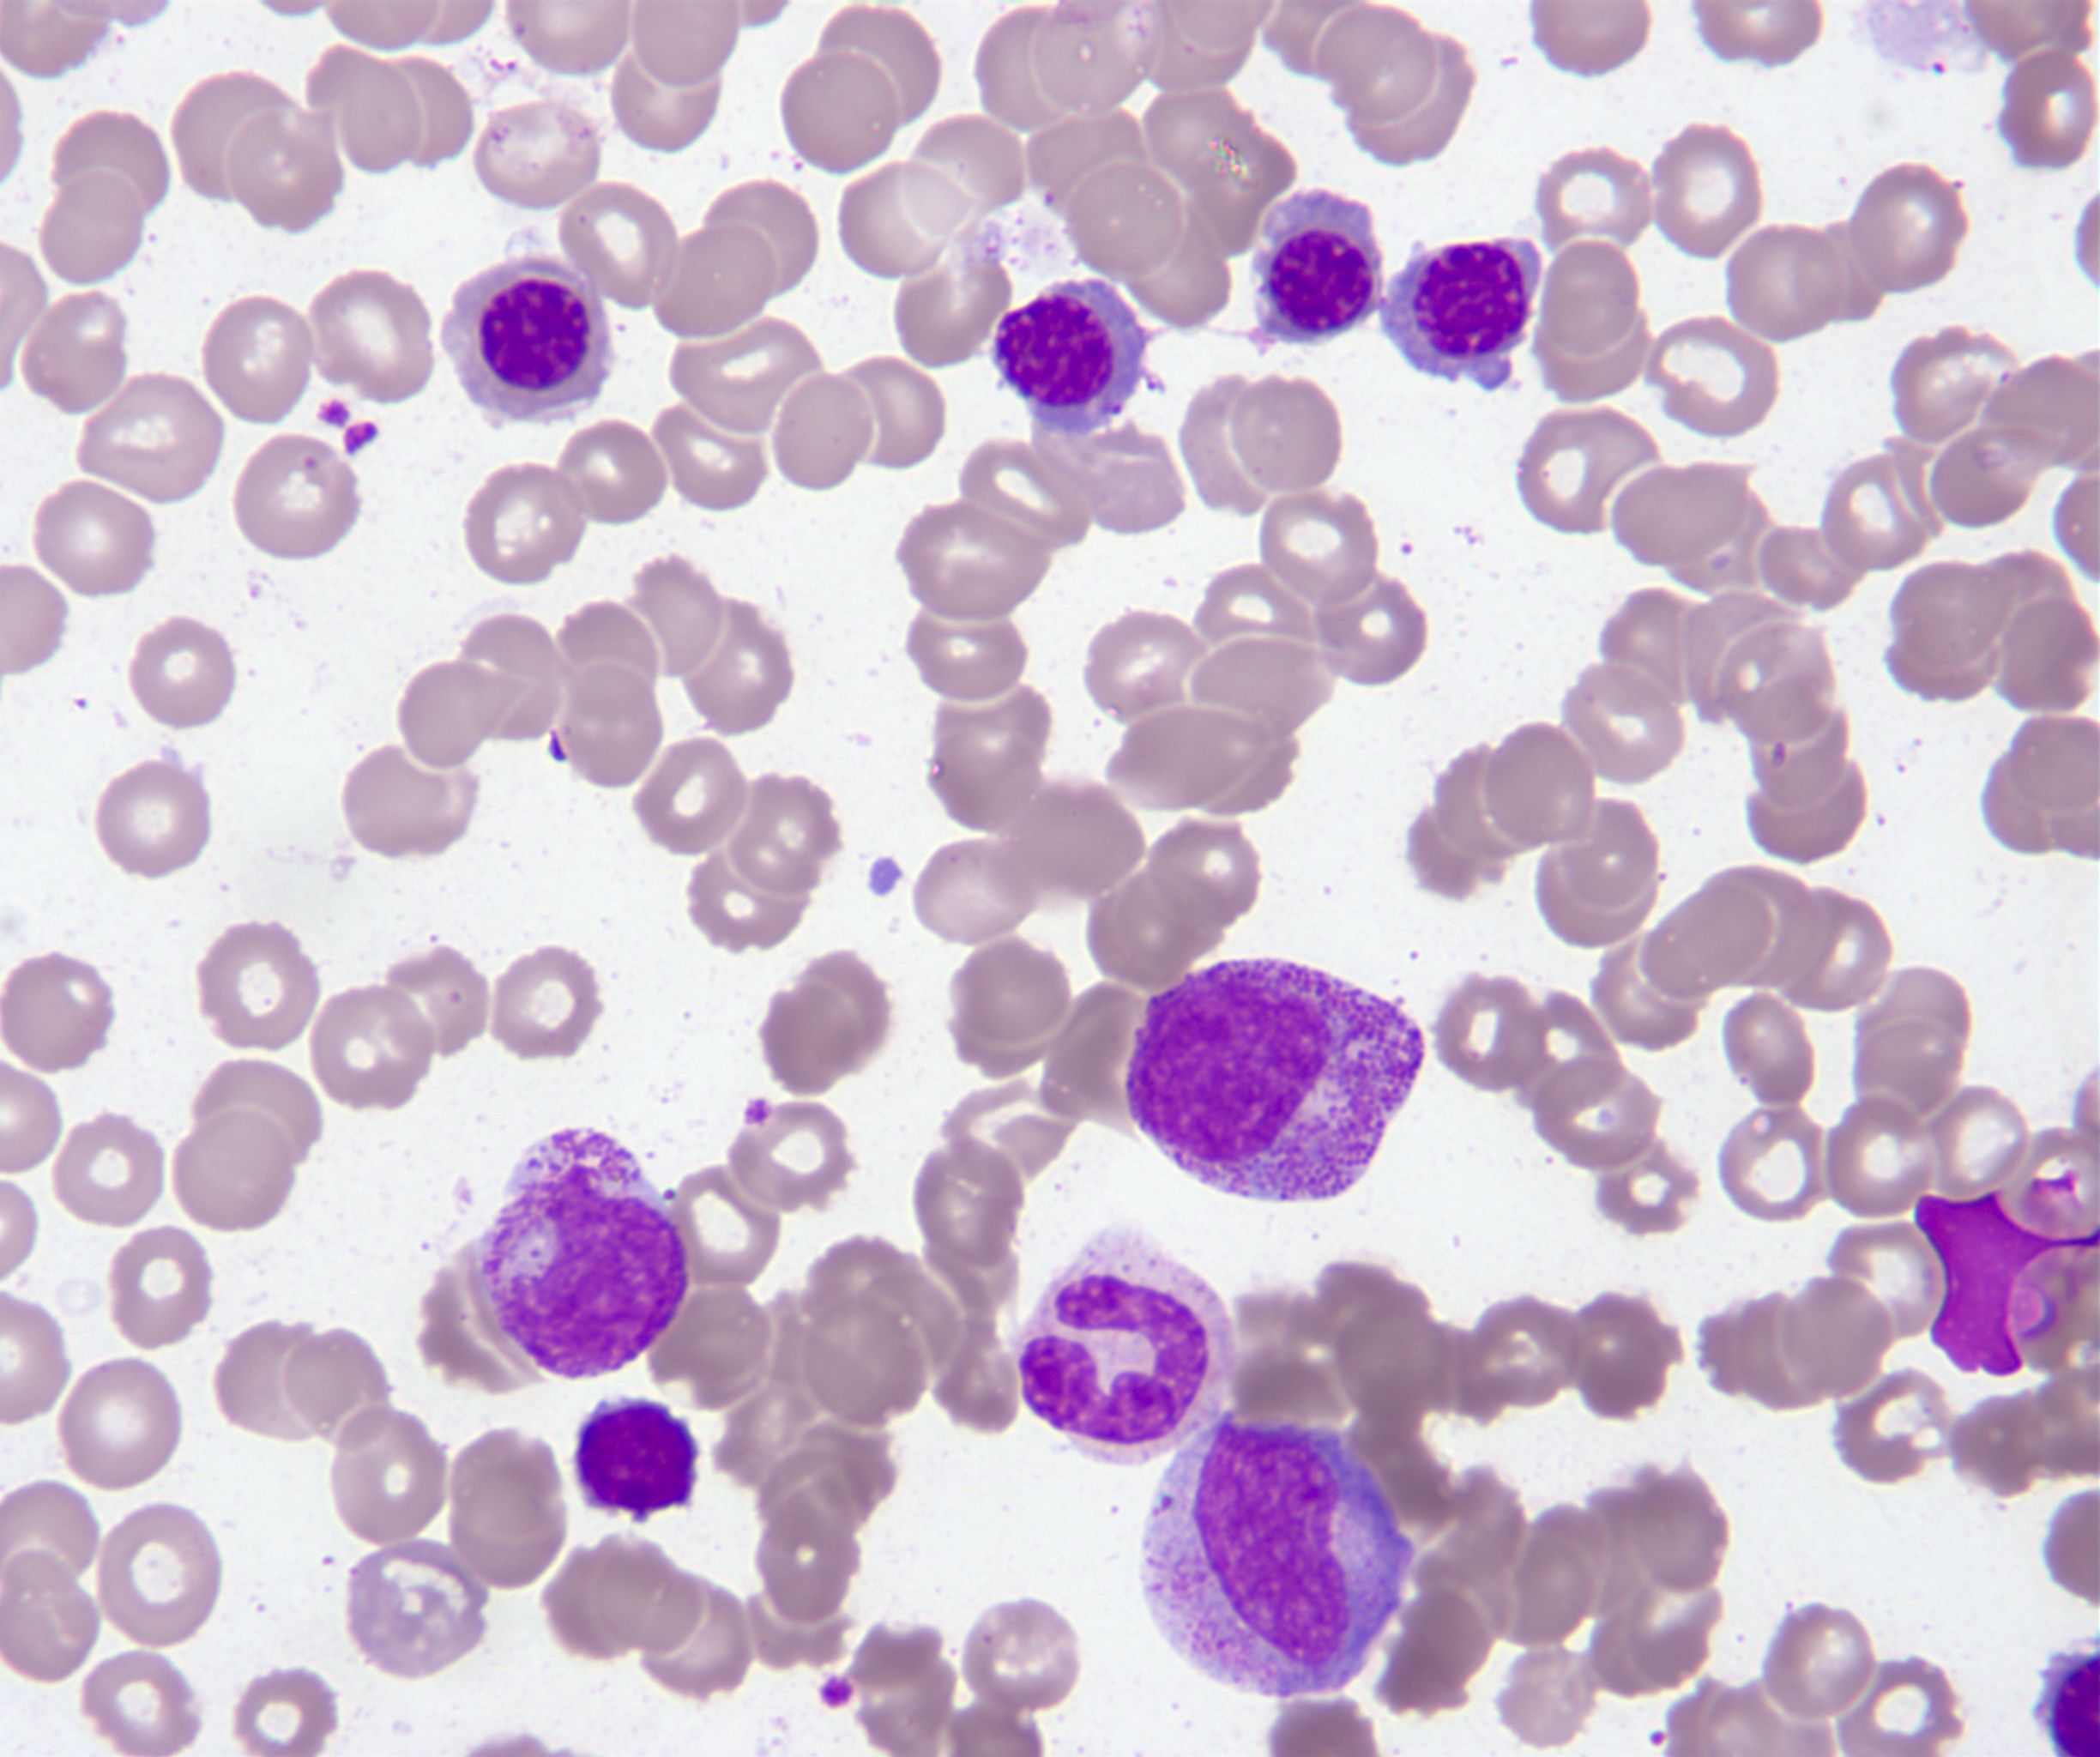23: (440, 258, 607, 422), (994, 279, 1144, 438), (1385, 237, 1540, 389), (1254, 194, 1381, 344)
3: (1141, 1415, 1416, 1698), (1128, 960, 1423, 1202), (478, 1127, 689, 1380)
32: (574, 1398, 698, 1525)
5: (1015, 1218, 1233, 1462)
x: (1919, 1169, 2098, 1378)
